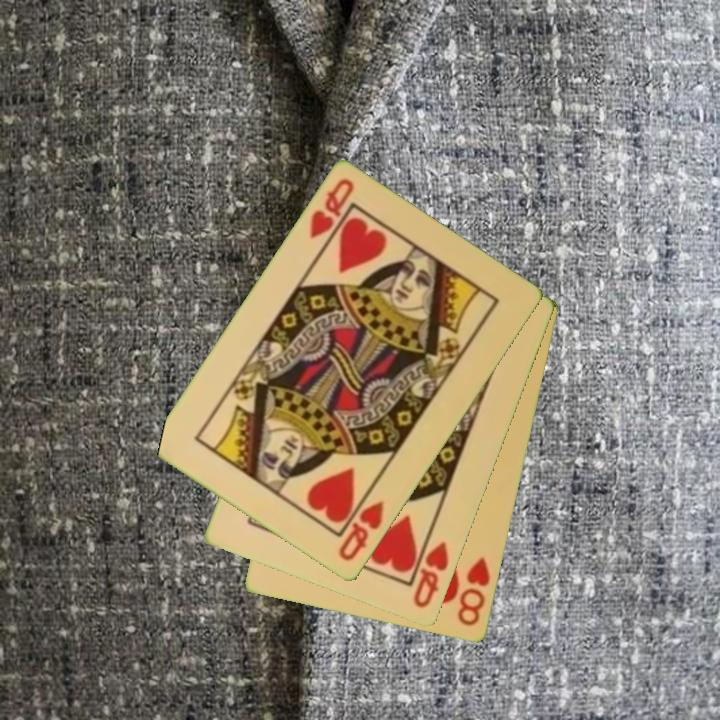8h: (454, 554, 494, 630)
Qh: (407, 529, 452, 612), (335, 497, 387, 565), (306, 175, 357, 243)
